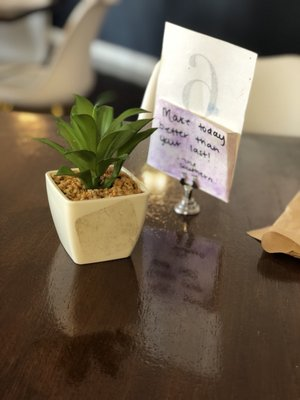soup: (29, 83, 162, 265)
